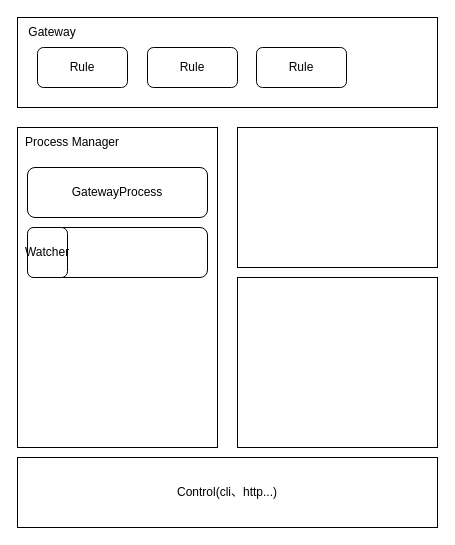
Some shapes in this 455 by 545 pixel diagram are drawn without their labels. Here are the shapes that lost their labels. From the top down, the box of each, then its label:
(236, 126, 438, 268): Collect Manager
(26, 226, 208, 278): ServiceProcess
(236, 276, 438, 448): Service Manager
